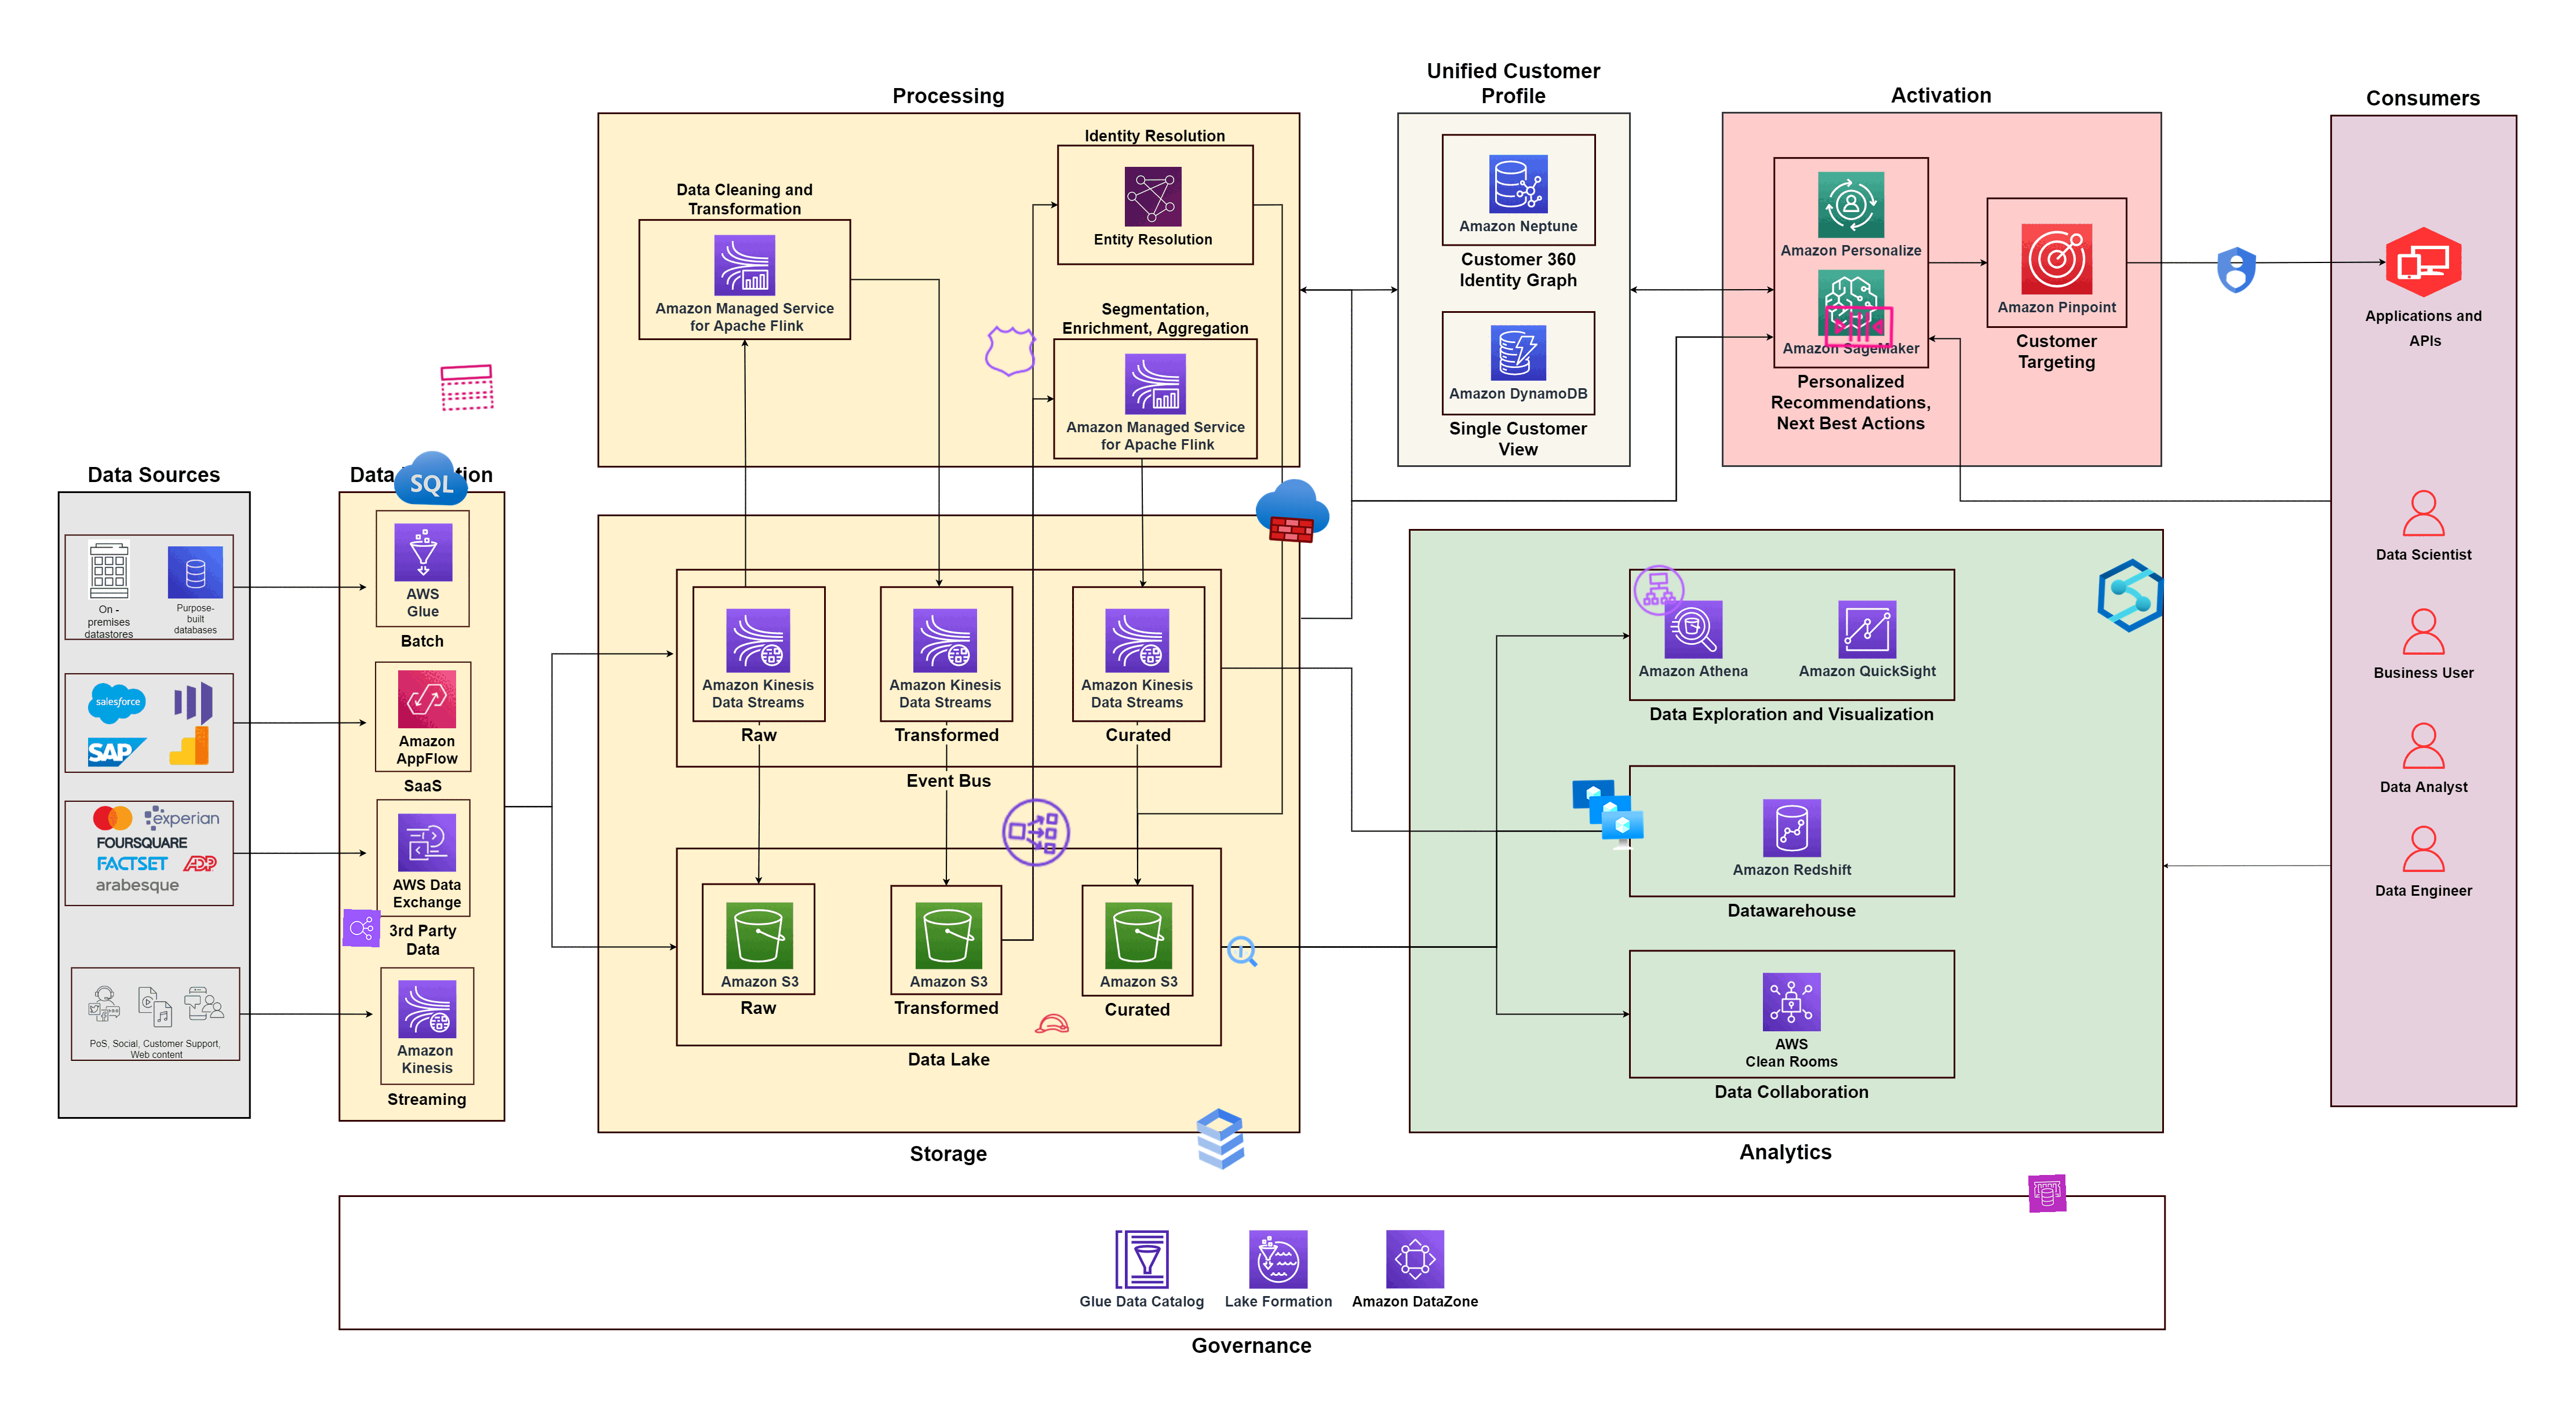aws_amazon_elasticache: (2028, 1174, 2067, 1214)
aws_elastic_load_balancing: (342, 909, 380, 947)
aws_elastic_load_balancing_application_load_balancer: (1629, 562, 1688, 619)
aws_elastic_load_balancing_network_load_balancer: (996, 793, 1076, 872)
aws_identity_access_management_role: (1032, 1004, 1071, 1043)
aws_route_53_hosted_zone: (982, 321, 1041, 382)
aws_simple_notification_service_topic: (438, 357, 497, 417)
aws_simple_queue_service_queue: (1821, 288, 1898, 364)
azure_firewalls: (1252, 471, 1332, 551)
azure_sql: (392, 441, 469, 518)
azure_synapse_analytics: (2091, 556, 2170, 635)
azure_vm_scale_sets: (1568, 776, 1645, 851)
gcp_bigquery: (1223, 933, 1261, 971)
gcp_cloud_sql: (1181, 1099, 1261, 1179)
gcp_identity_and_access_management: (2206, 241, 2266, 300)
